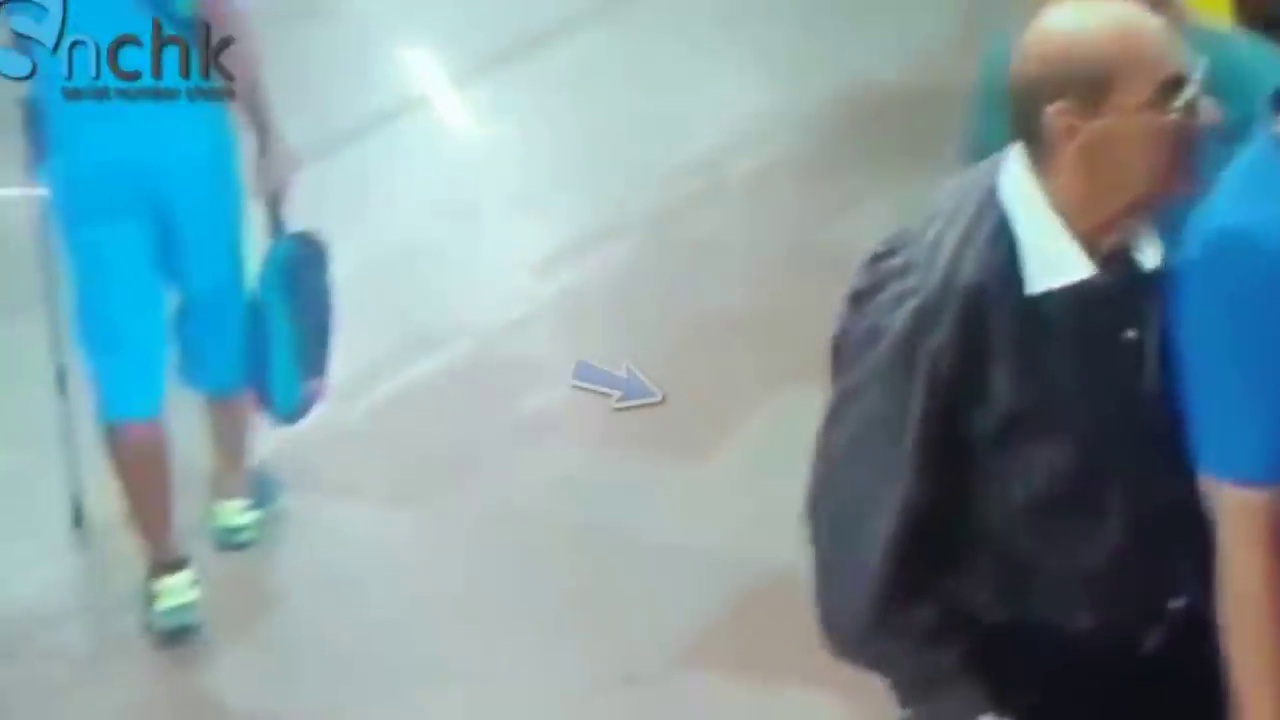face: (1112, 33, 1228, 201)
